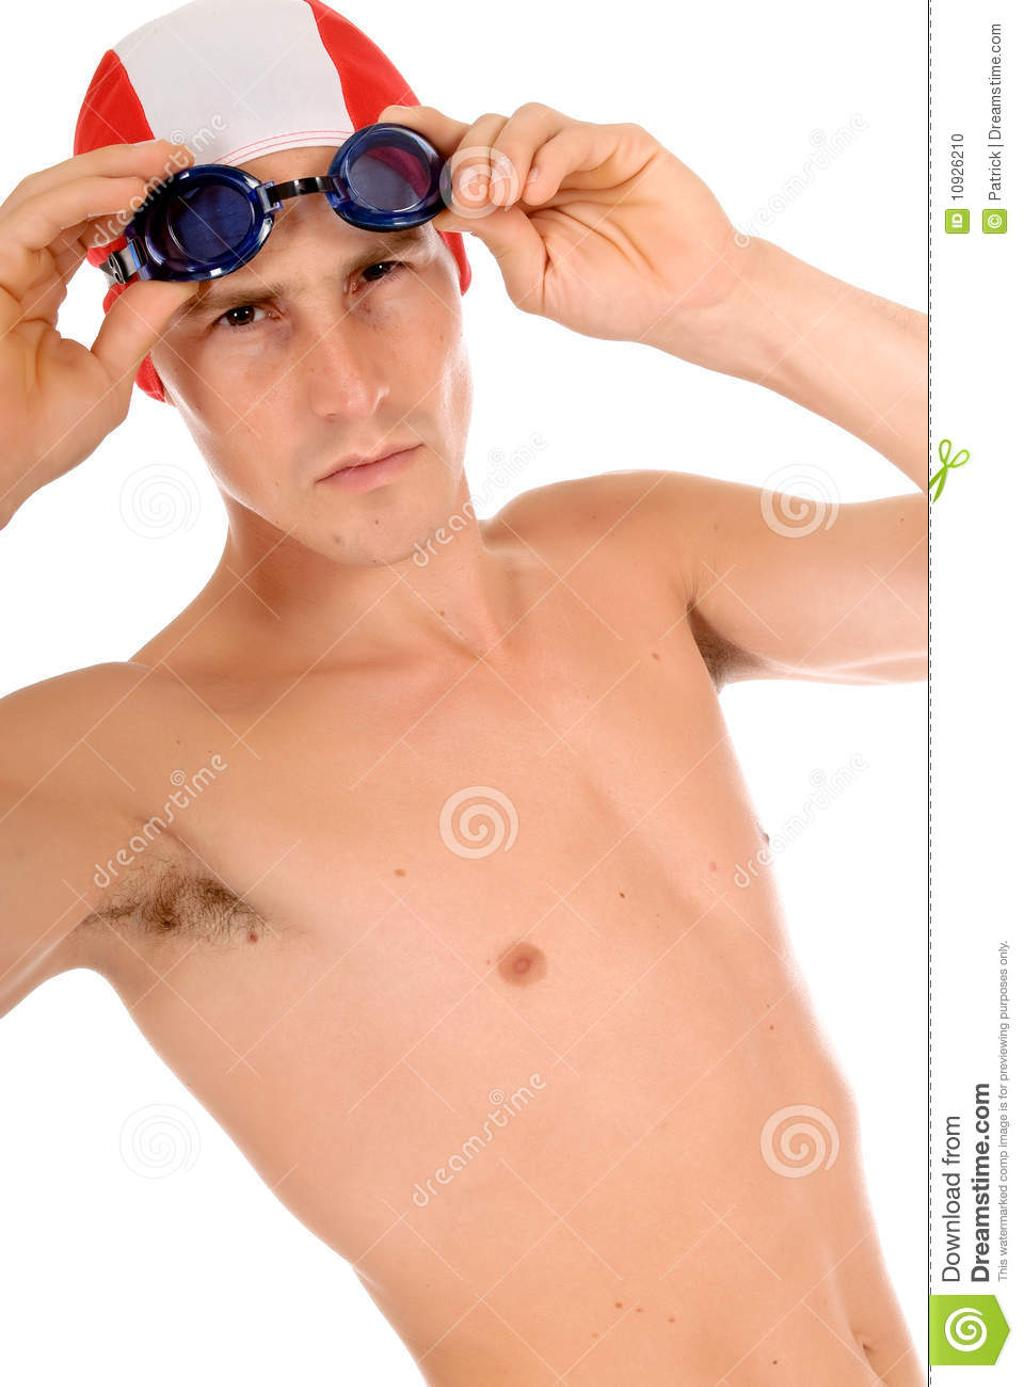face: (171, 173, 474, 558)
